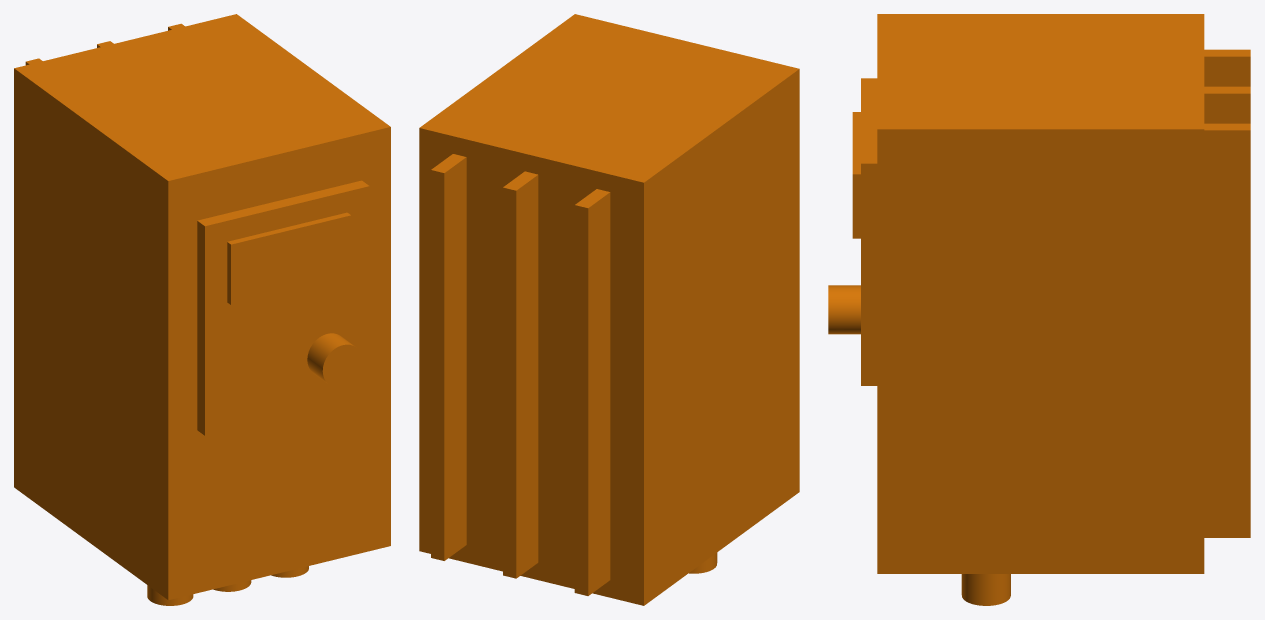
File: VFD-3P-055.glb
3 views of the same model, side by side, from view 1: azimuth 30°, elevation 25°; view 2: azimuth 150°, elevation 25°; view 3: azimuth 270°, elevation 25° (orthographic). The views are drawn at different scales.
Parts seen in each view (by area): view 1: VFD-3P-055; view 2: VFD-3P-055; view 3: VFD-3P-055.
Part boxes in pixels (x1,y1,x2,y2): VFD-3P-055: (14,14,390,605); VFD-3P-055: (419,14,799,605); VFD-3P-055: (828,14,1250,605).
Size of the model in its own units: 0.1 by 0.2 by 0.155.
